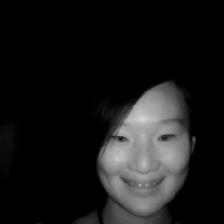happy: (78, 67, 201, 219)
